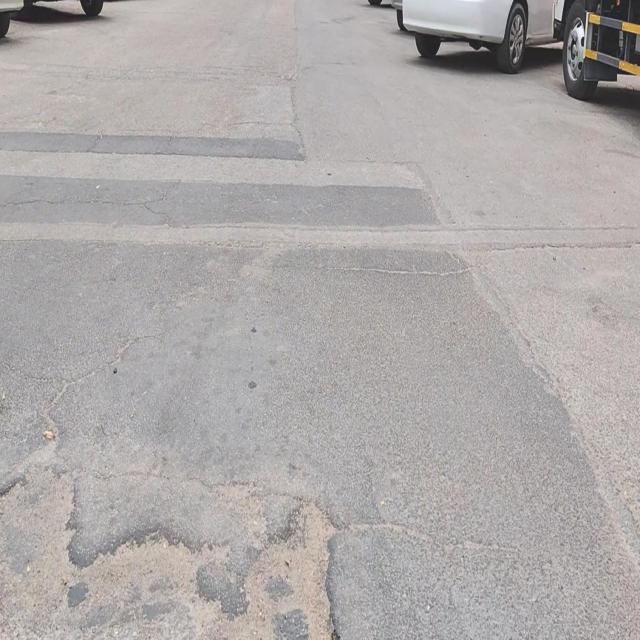Potholes: (207, 495, 341, 640)
